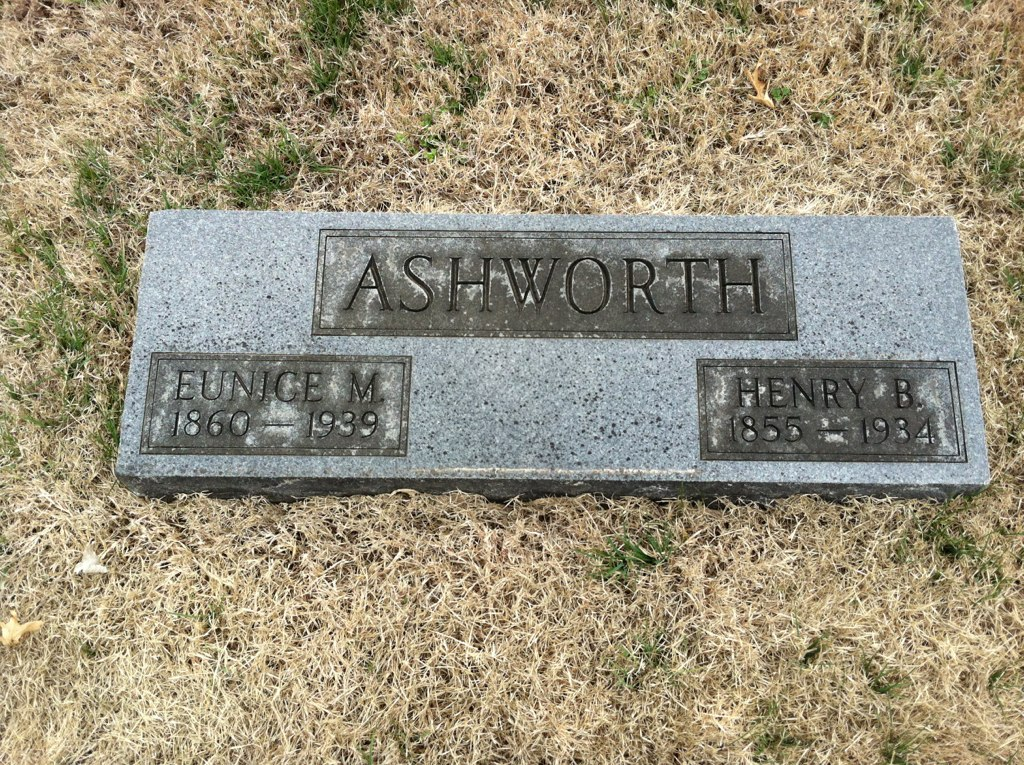flat: (118, 206, 995, 486)
